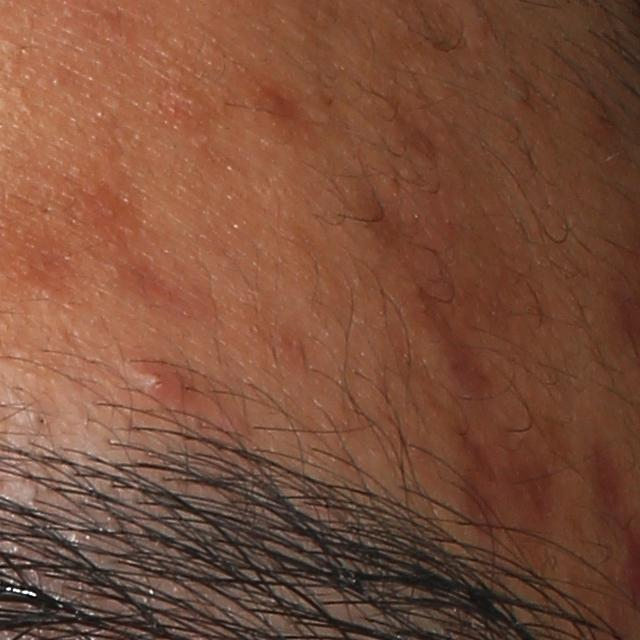atrophic_scar: (347, 177, 496, 391), (454, 422, 550, 530)
comedo: (27, 409, 50, 430)
papule: (131, 365, 187, 400)
